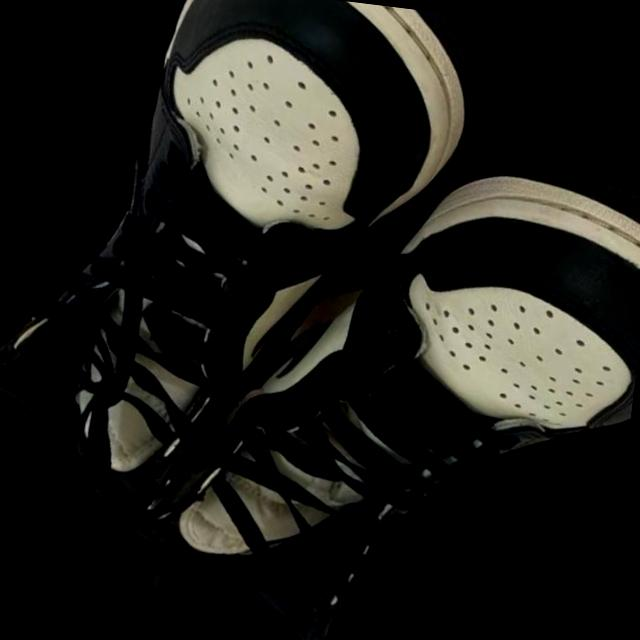nike_original_jordan: (87, 16, 640, 640), (0, 0, 564, 594)
